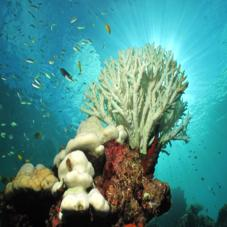bleached_corals: (74, 24, 224, 172), (57, 149, 109, 215), (66, 117, 128, 154)
